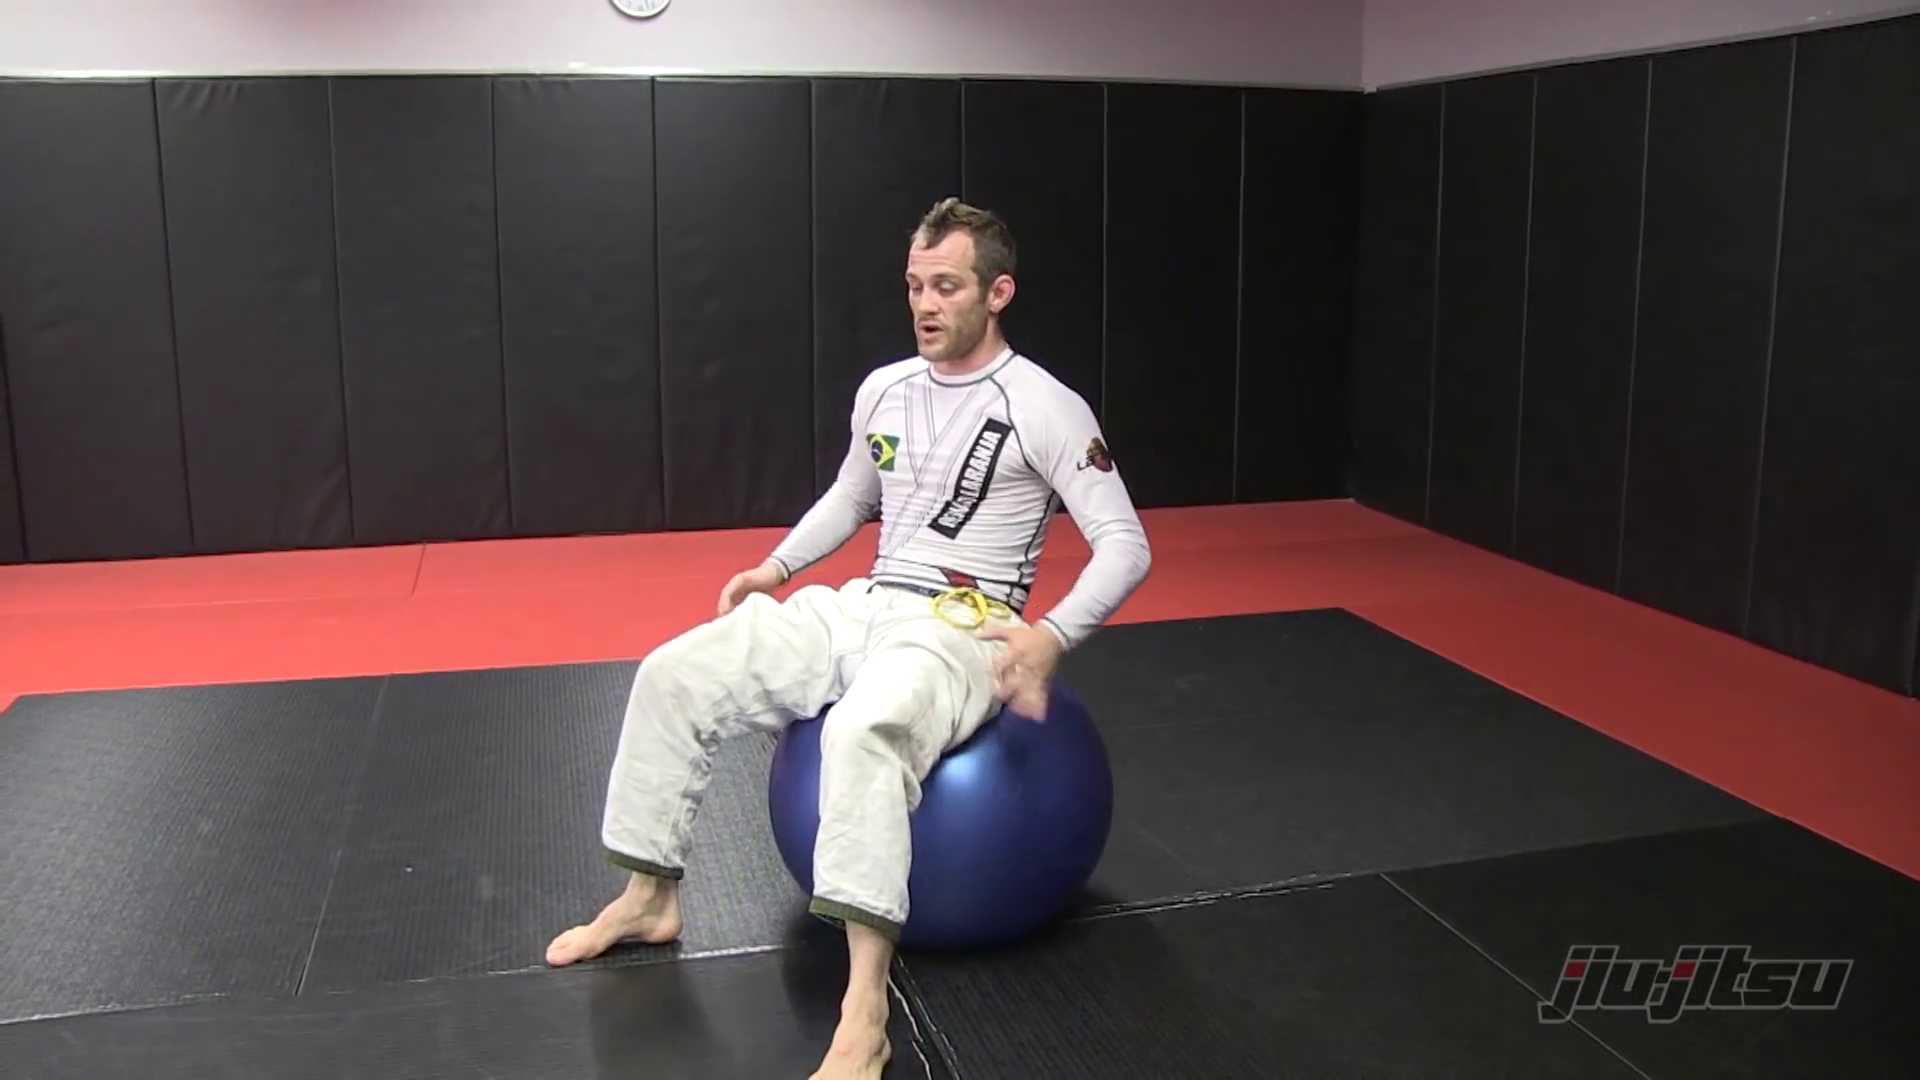yogaball: (742, 638, 1135, 978)
